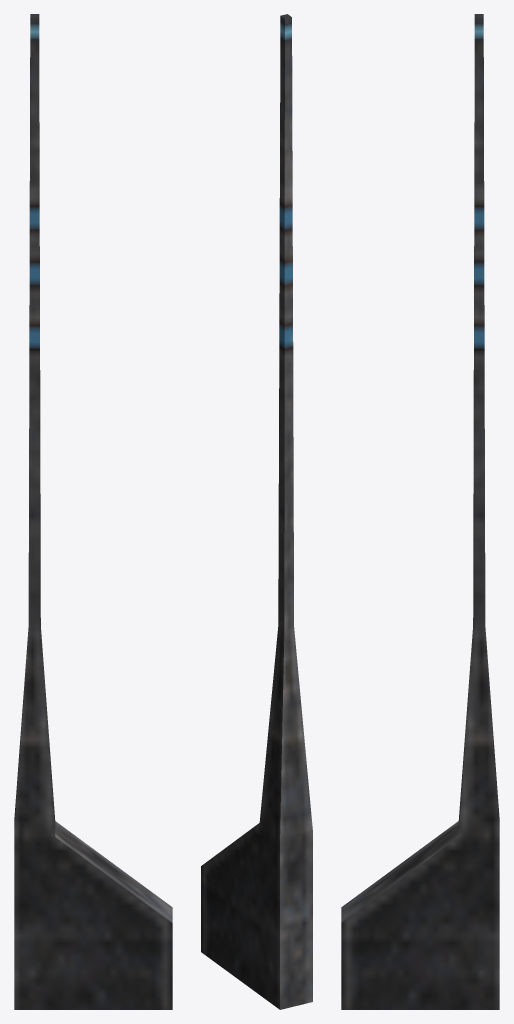
3 views of the same model, side by side, from view 1: azimuth 90°, elevation 25°; view 2: azimuth 210°, elevation 25°; view 3: azimuth 270°, elevation 25° (orthographic).
Visible parts, largest first — view 1: wj5; view 2: wj5; view 3: wj5.
Boxes of the visible parts, x1,y1,x2,y2 form: wj5: [14, 14, 172, 1009]; wj5: [201, 14, 312, 1009]; wj5: [341, 14, 499, 1009].
Size of the model in its own units: 21.86 by 627 by 91.3.
